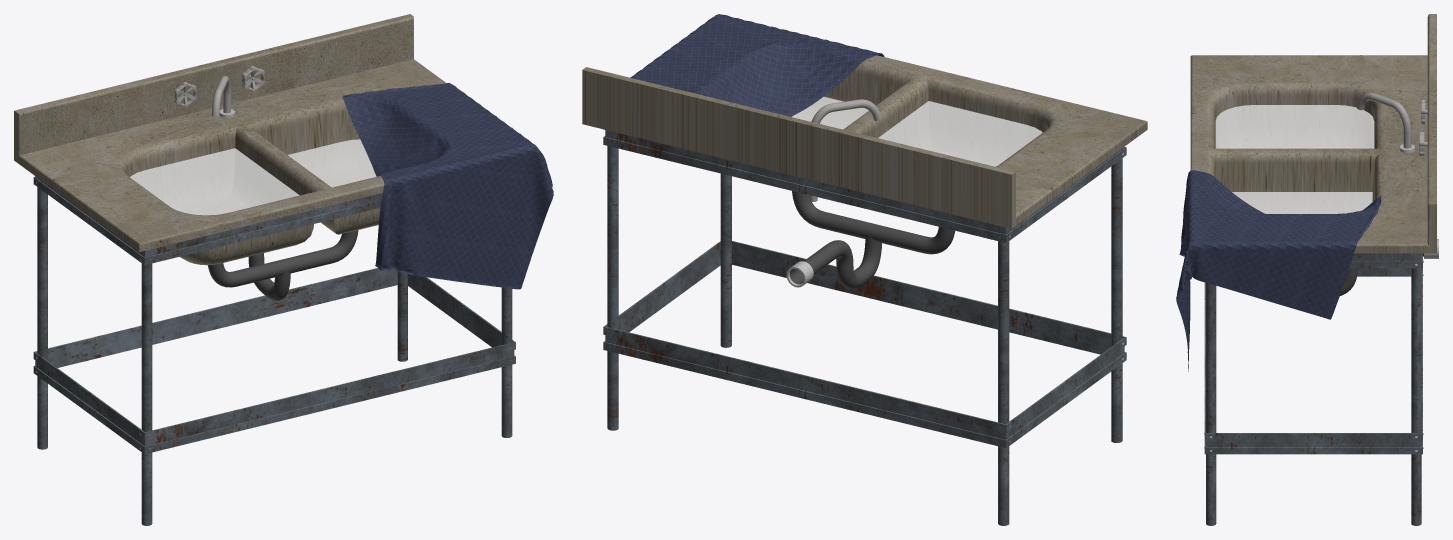
File: sink_basin.glb
3 renders of one model, left to right at view 1: azimuth 30°, elevation 25°; view 2: azimuth 150°, elevation 25°; view 3: azimuth 270°, elevation 25°, orthographic. The views are drawn at different scales.
Visible parts, largest first — view 1: Material2 (×14); view 2: Material2 (×14); view 3: Material2 (×10).
Boxes of the visible parts, x1=… form: Material2 (×14): x1=14, y1=14, x2=553, y2=525; Material2 (×14): x1=582, y1=14, x2=1147, y2=525; Material2 (×10): x1=1176, y1=14, x2=1436, y2=525.
Size of what is drawn, in the model's own units: 45.36 by 35.66 by 25.59.
Materials: 14 (3 with a texture image).
